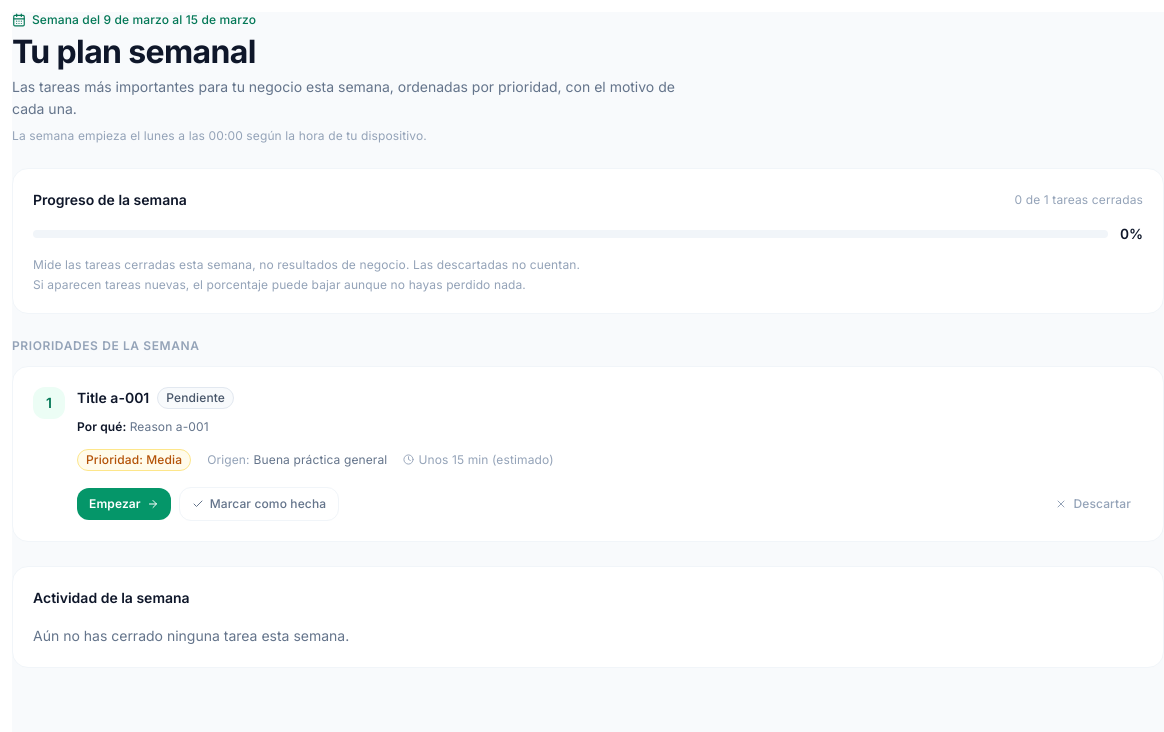
Test: error handling on updates › shows the subscription message when the server refuses for premium reasons
Step 1. Click the button "Descartar" → point(1093, 504), box [1043,488,1143,520]
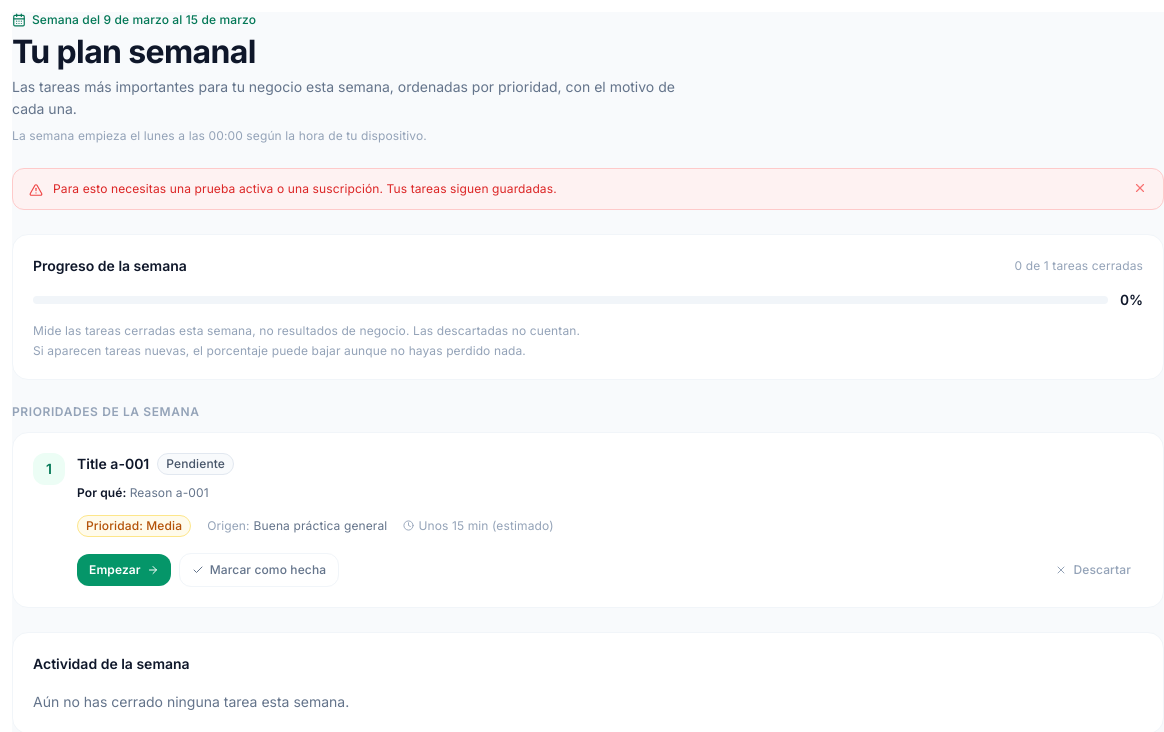
Now the message shows "prueba activa o una suscripción", box [53,181,557,196]
